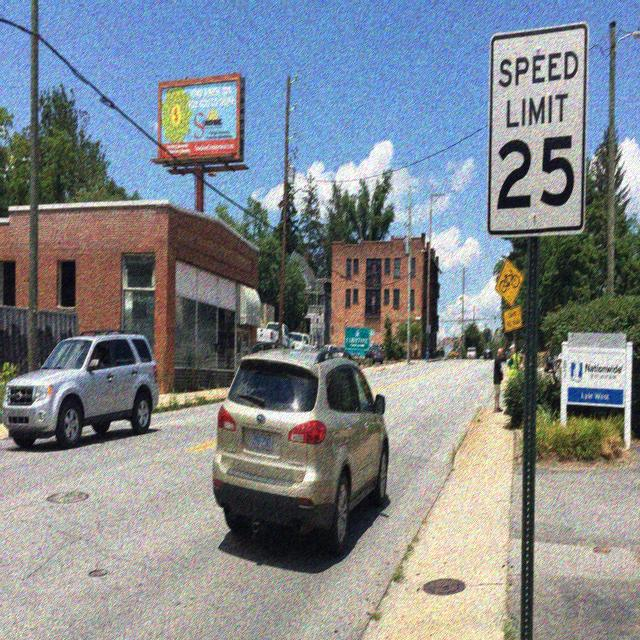speedLimit25: (476, 22, 594, 245)
